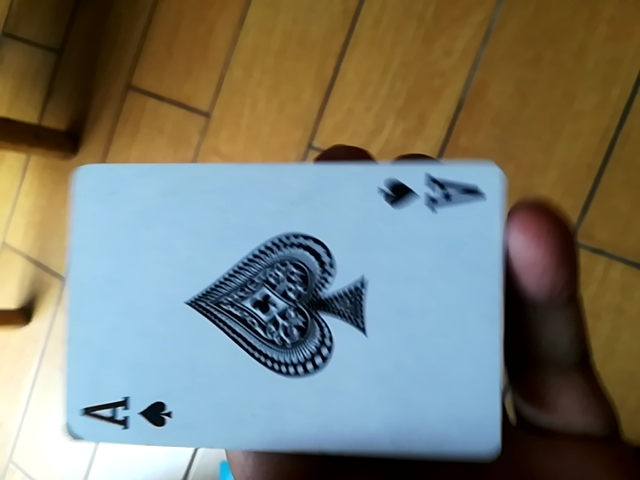ht a: (54, 159, 515, 460)
